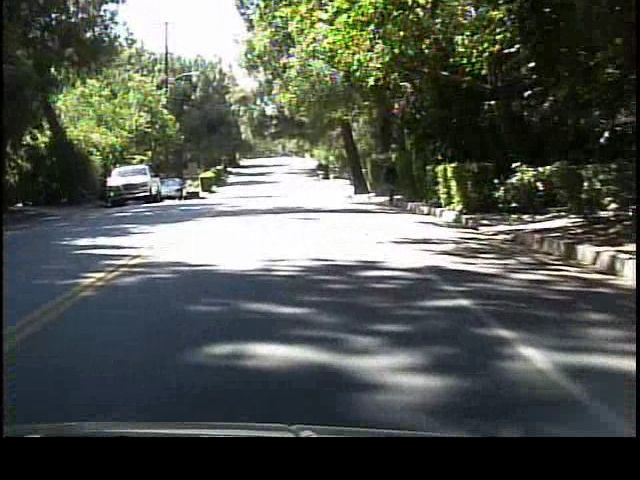person: (383, 156, 402, 208)
